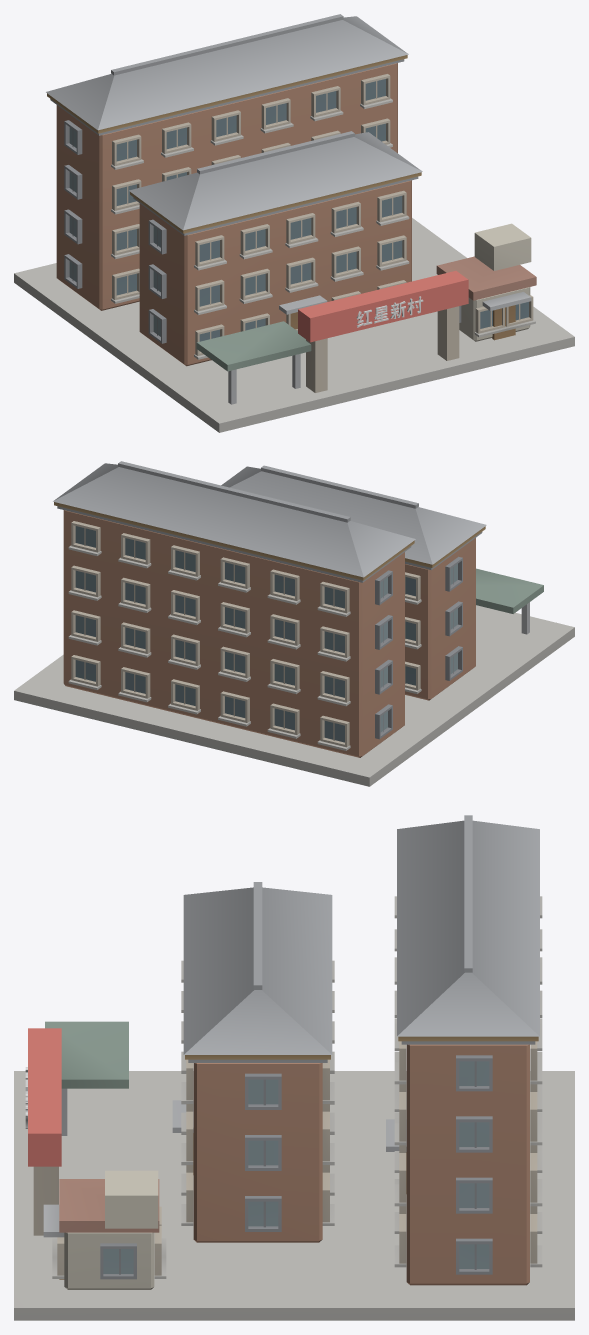
Rendered from workers-estate.glb.
3 views of the same model, one above another, from view 1: azimuth 30°, elevation 25°; view 2: azimuth 150°, elevation 25°; view 3: azimuth 270°, elevation 25° (orthographic). The views are drawn at different scales.
Visible parts, largest first — view 1: workers-estate; view 2: workers-estate; view 3: workers-estate.
Boxes of the visible parts, bbox=[...] form: workers-estate: bbox=[14, 14, 574, 432]; workers-estate: bbox=[14, 461, 574, 786]; workers-estate: bbox=[14, 815, 574, 1320].
Size of the model in its own units: 2 by 1.21 by 2.
